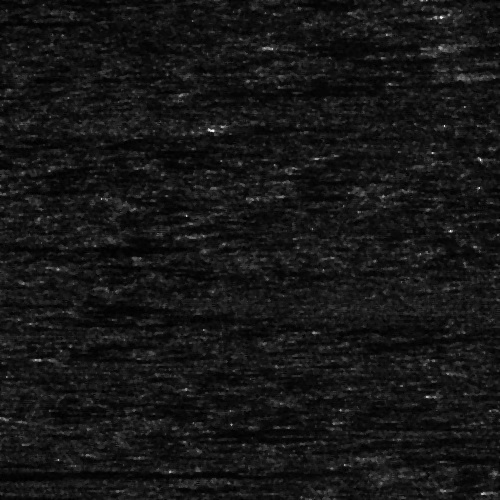object: (392, 9, 500, 18), (250, 40, 323, 51), (428, 43, 481, 48), (282, 496, 335, 500)
shadow: (0, 469, 276, 480), (287, 40, 420, 51), (0, 18, 72, 25), (449, 9, 500, 18), (309, 496, 371, 500), (454, 43, 500, 48)
